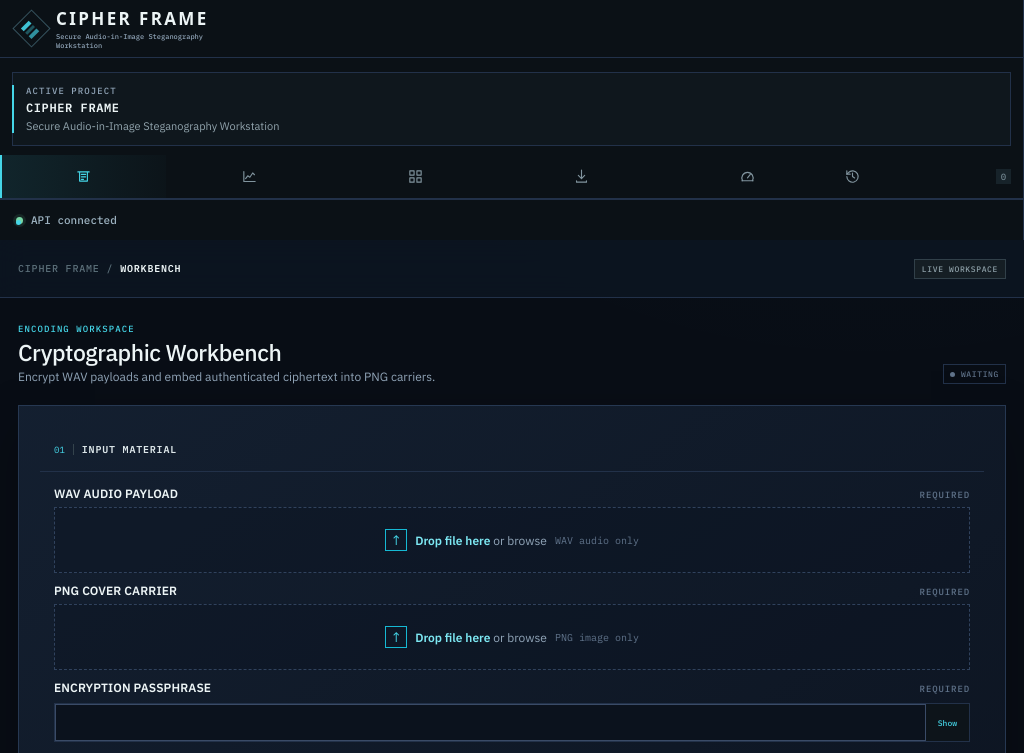
Scenario: Cipher Frame workspace › navigates between all six pages using named navigation controls
The width and height of the screenshot is (1024, 753).
What coordinates should you click on to do the following:
click the button named "Histogram Analysis"
I would click on:
 (249, 176)
Its box is left=166, top=155, right=332, bottom=198.
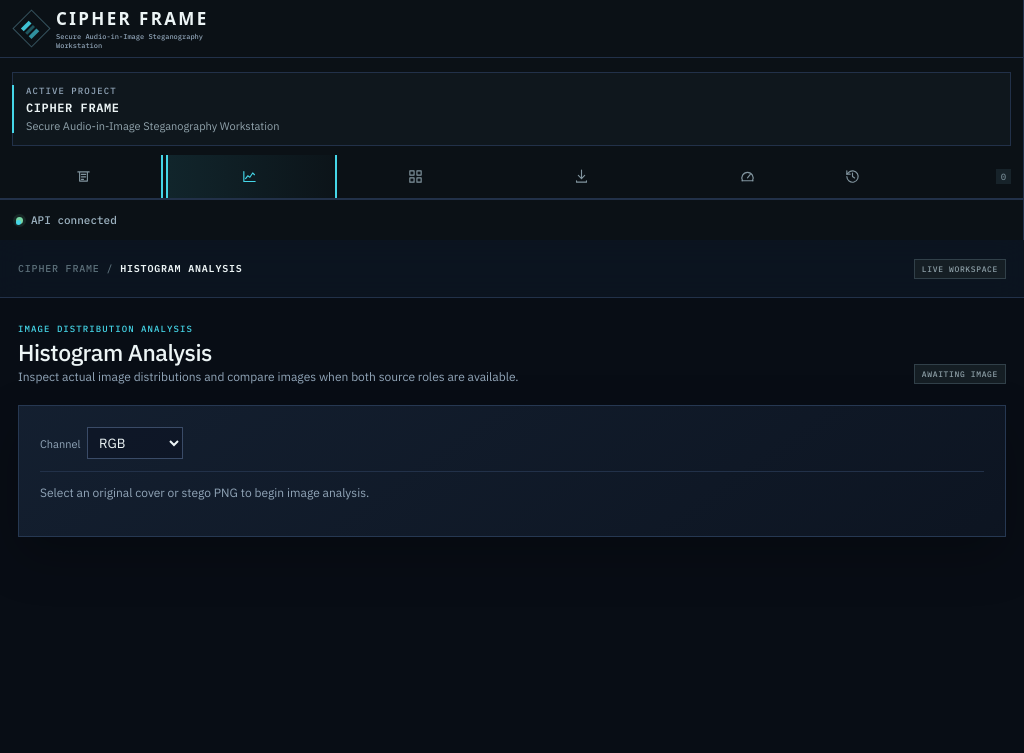
expect the heading "Histogram Analysis" is shown: met, box left=18, top=337, right=212, bottom=367
What coordinates should you click on to do the following:
click the button named "Pixel Lab"
I would click on:
 (415, 176)
Its box is left=332, top=155, right=498, bottom=198.
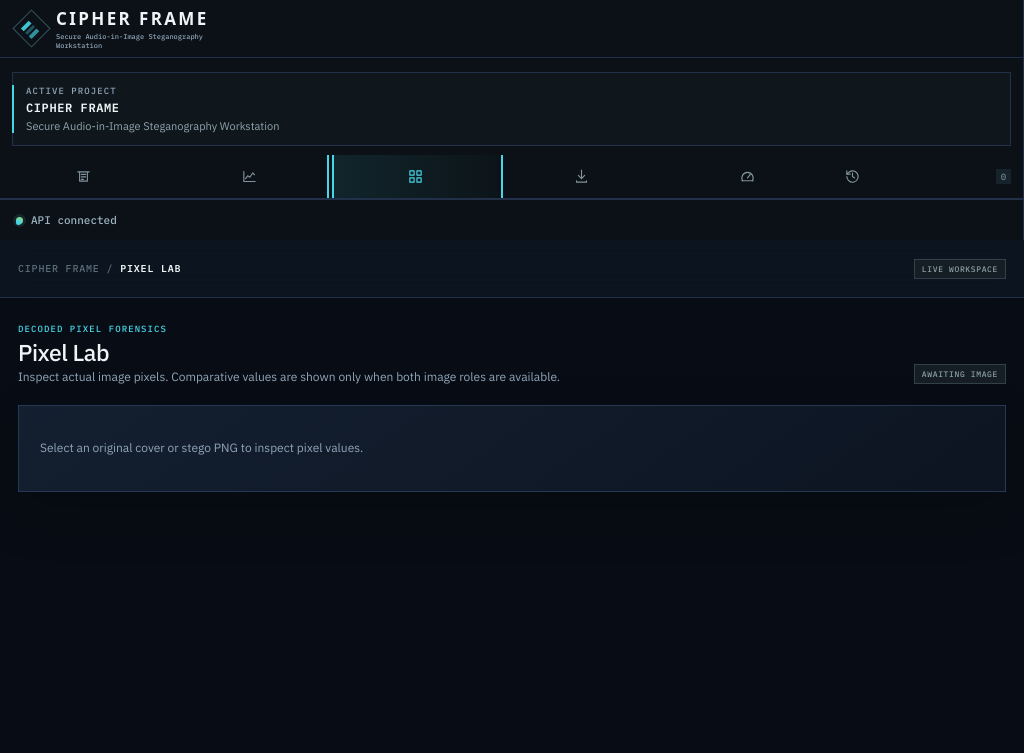
expect the heading "Pixel Lab" is shown: met, box left=18, top=337, right=109, bottom=367
What coordinates should you click on to do the following:
click the button named "Decode"
I would click on:
 (581, 176)
Its box is left=498, top=155, right=664, bottom=198.
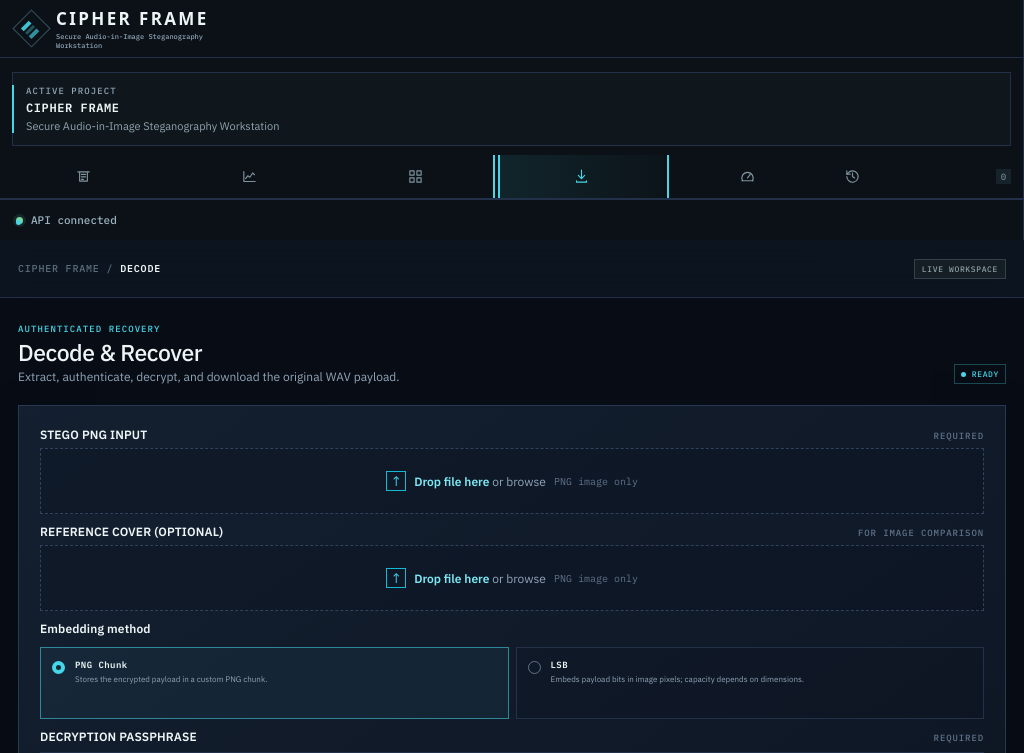
expect the heading "Decode & Recover" is shown: met, box left=18, top=337, right=202, bottom=367
What coordinates should you click on to do the following:
click the button named "Performance"
I would click on:
 (747, 176)
Its box is left=664, top=155, right=830, bottom=198.
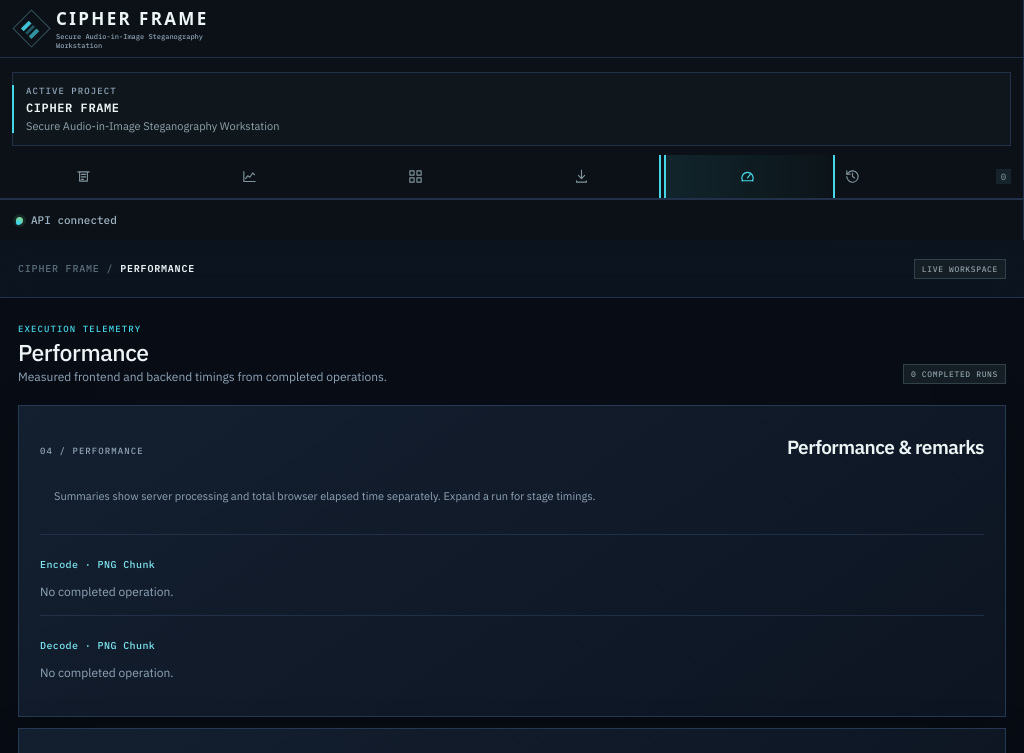
expect the heading "Performance" is shown: met, box left=18, top=337, right=149, bottom=367
What coordinates should you click on to do the following:
click the button named "Run History"
I would click on:
 (926, 176)
Its box is left=830, top=155, right=1023, bottom=198.
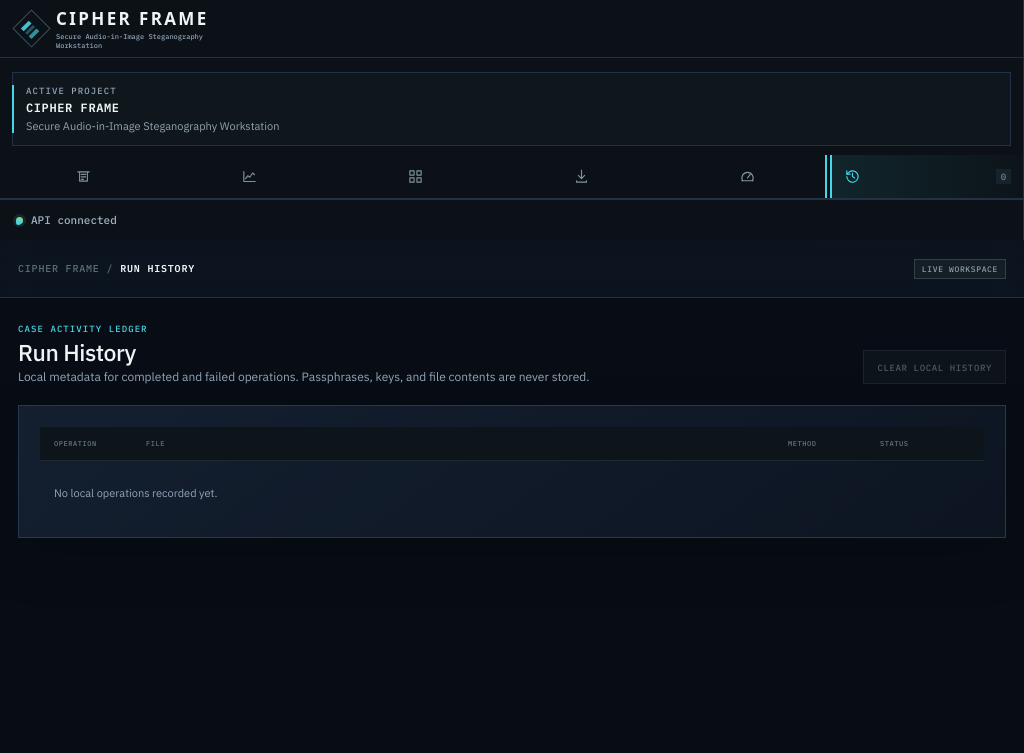
expect the heading "Run History" is shown: met, box left=18, top=337, right=136, bottom=367
What coordinates should you click on to do the following:
click the button named "Workbench"
I would click on:
 (83, 176)
Its box is left=0, top=155, right=166, bottom=198.
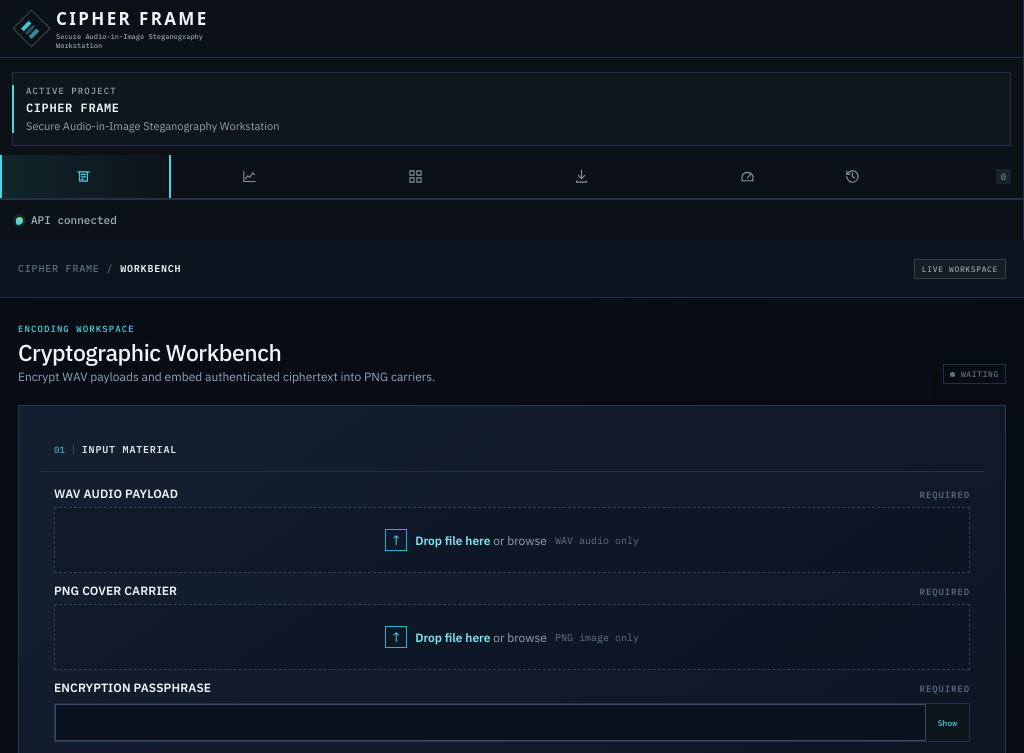
expect the heading "Cryptographic Workbench" is shown: met, box left=18, top=337, right=281, bottom=367
